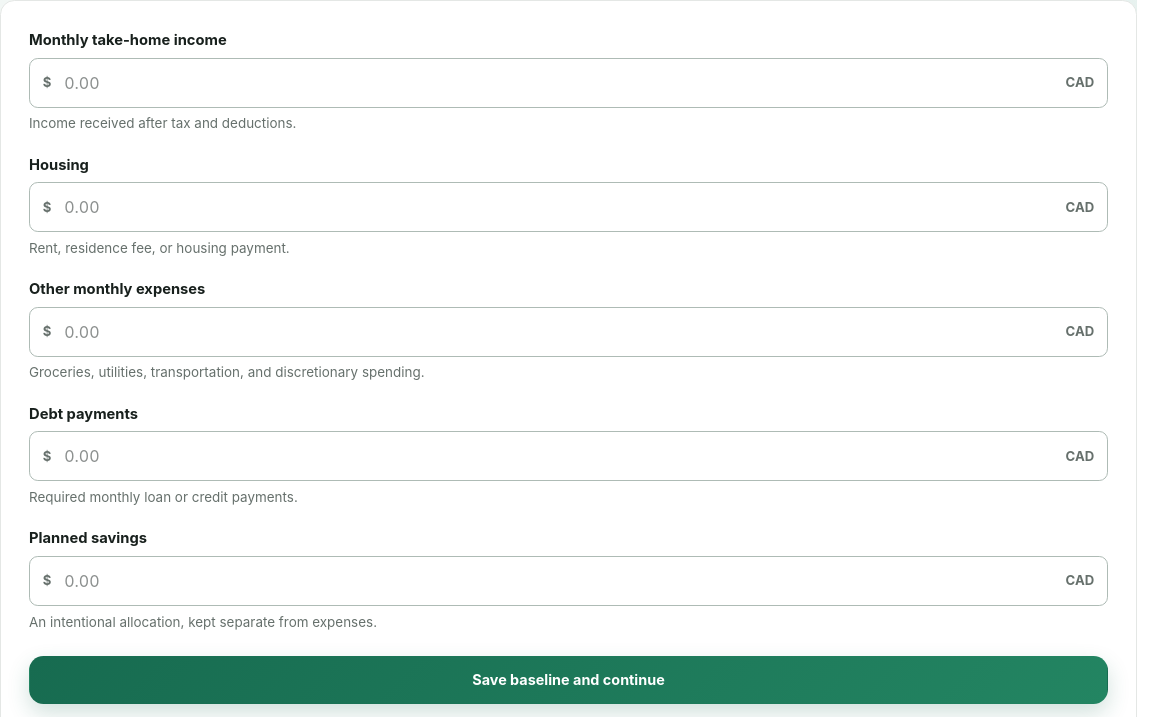
Test: BaselineForm › shows validation errors, rejects negatives, and focuses the first invalid field
This screenshot has width=1152, height=717.
Type "-1" into the field labelled "Monthly take-home income".
click(558, 83); type("-1")  # box [64, 59, 1053, 107]
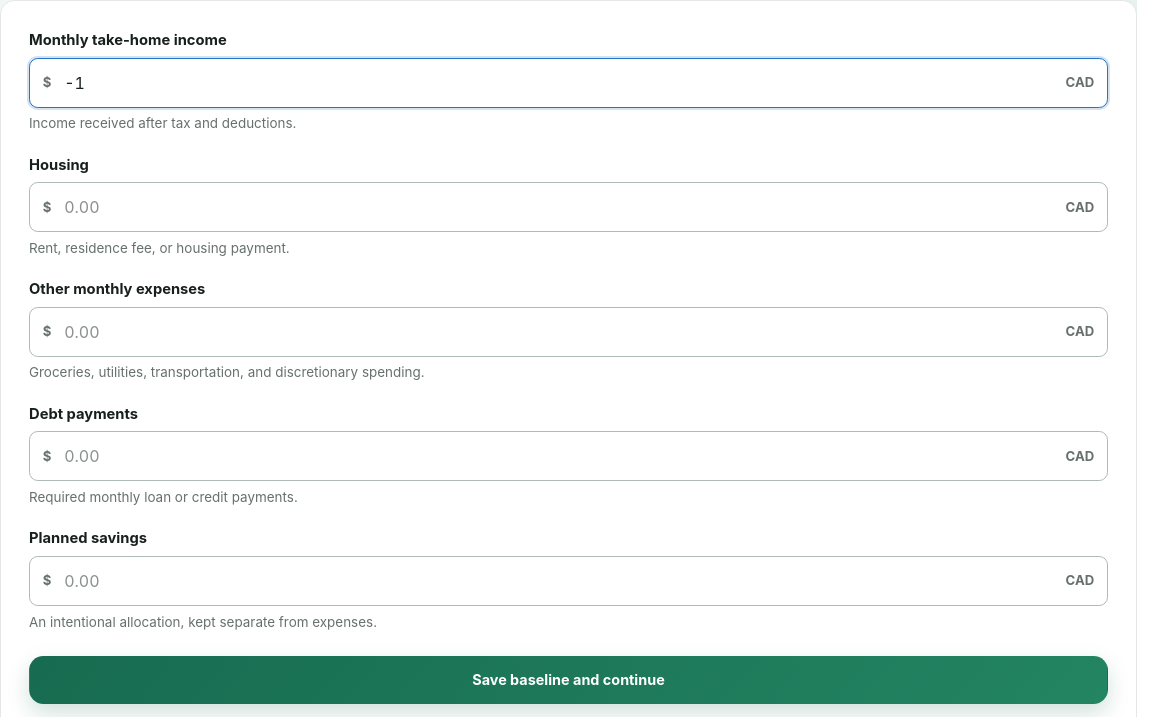
Type "10.001" into the field labelled "Other monthly expenses".
click(558, 332); type("10.001")  # box [64, 308, 1053, 356]
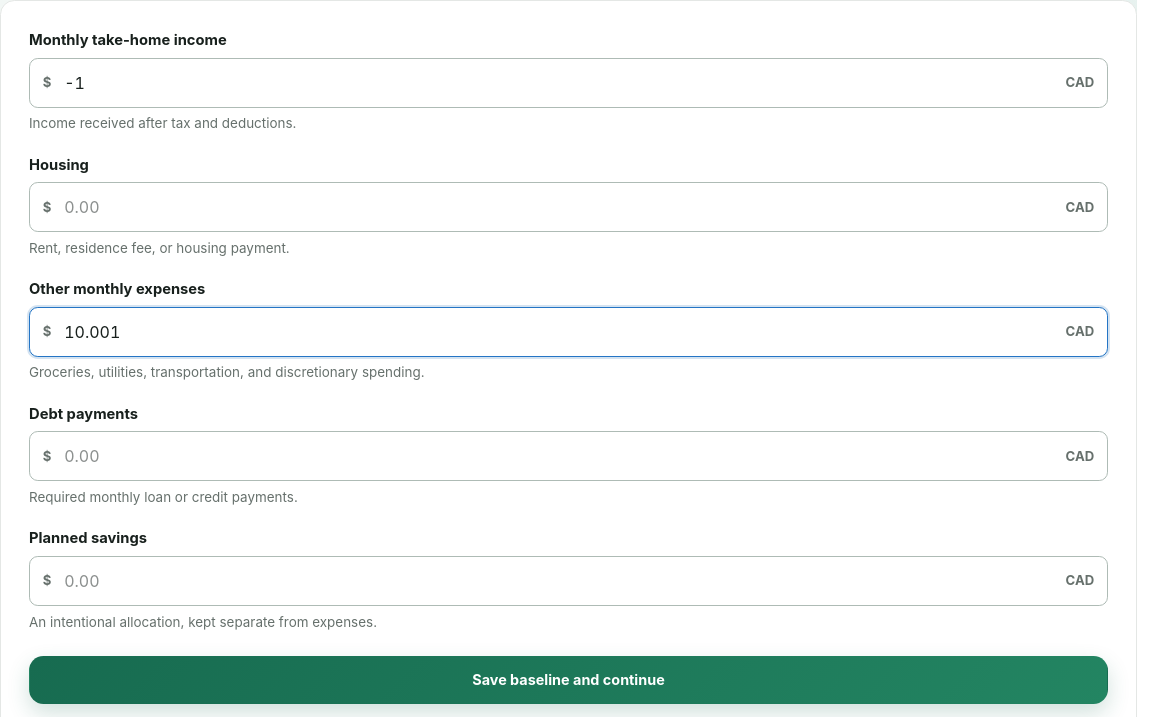
Type "abc" into the field labelled "Debt payments".
click(558, 456); type("abc")  # box [64, 432, 1053, 480]
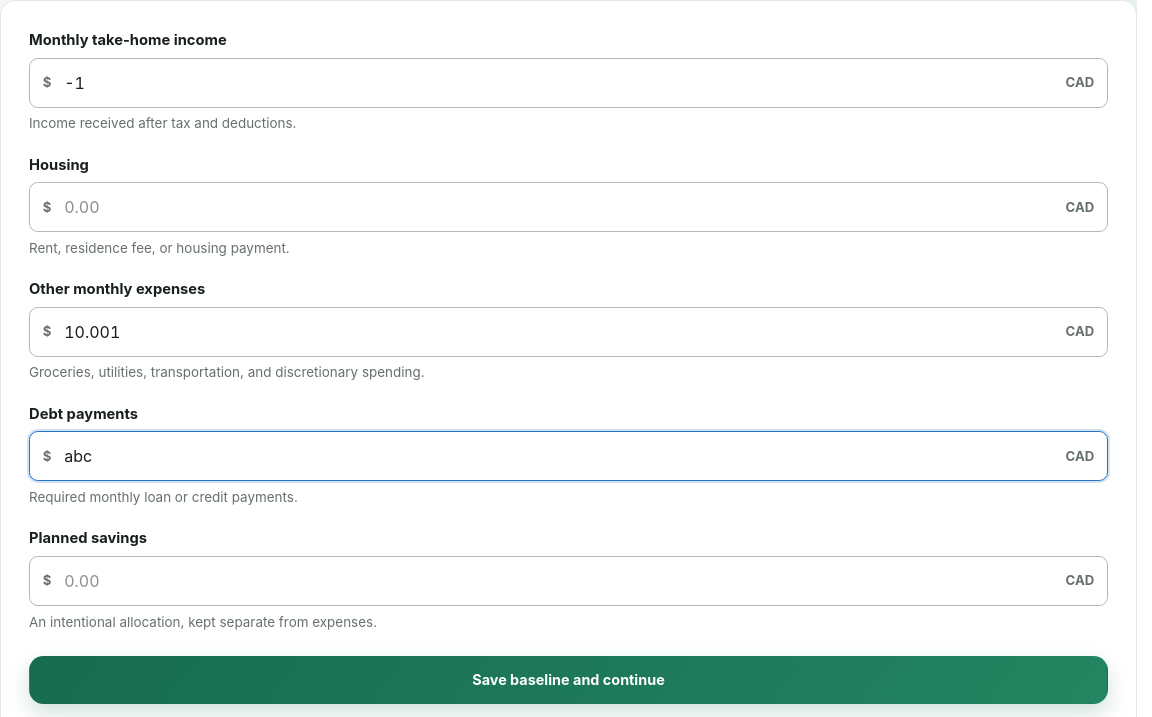
Type "0" into the field labelled "Planned savings".
click(558, 581); type("0")  # box [64, 557, 1053, 605]
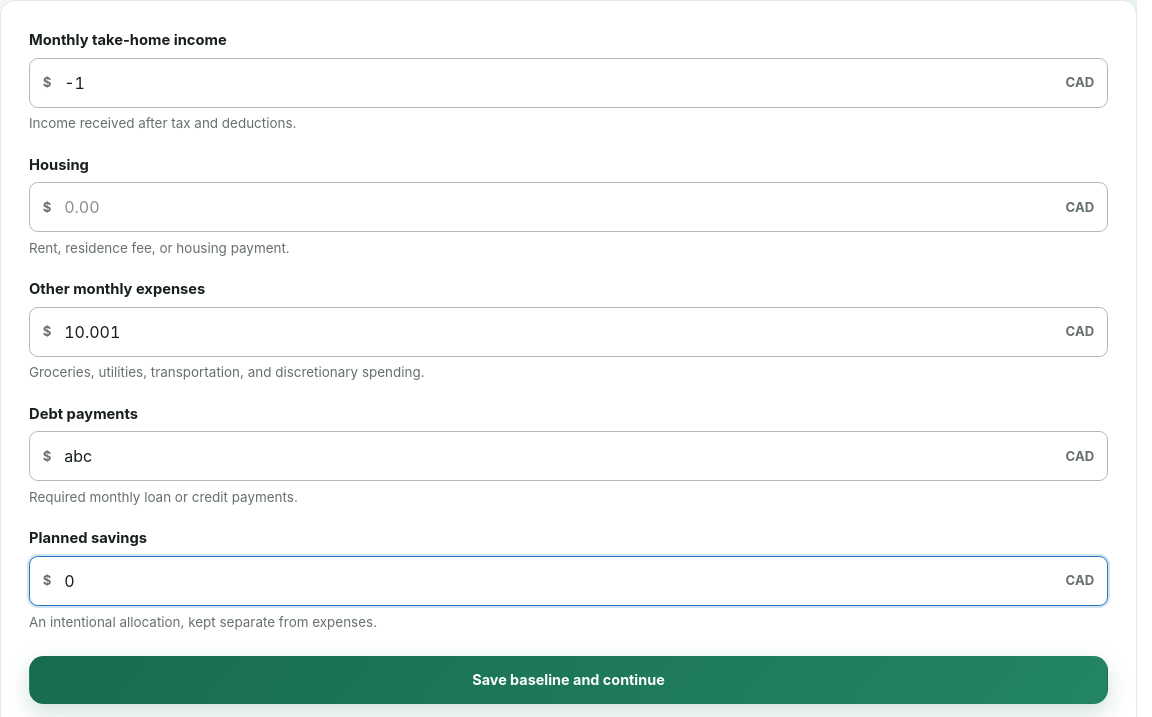
Click the button "Save baseline and continue".
click(568, 680)  # box [29, 656, 1108, 704]
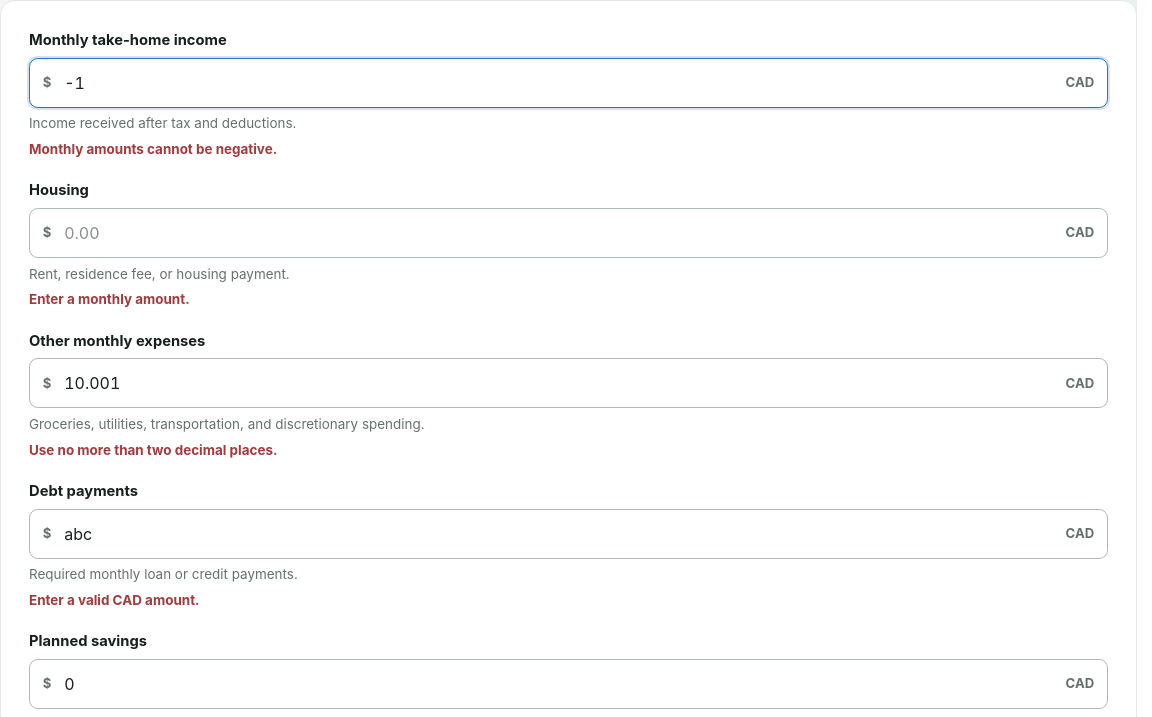
Expected: the text "Monthly amounts cannot be negative." is shown, [29, 141, 277, 157]
Expected: the text "Use no more than two decimal places." is shown, [29, 442, 278, 458]
